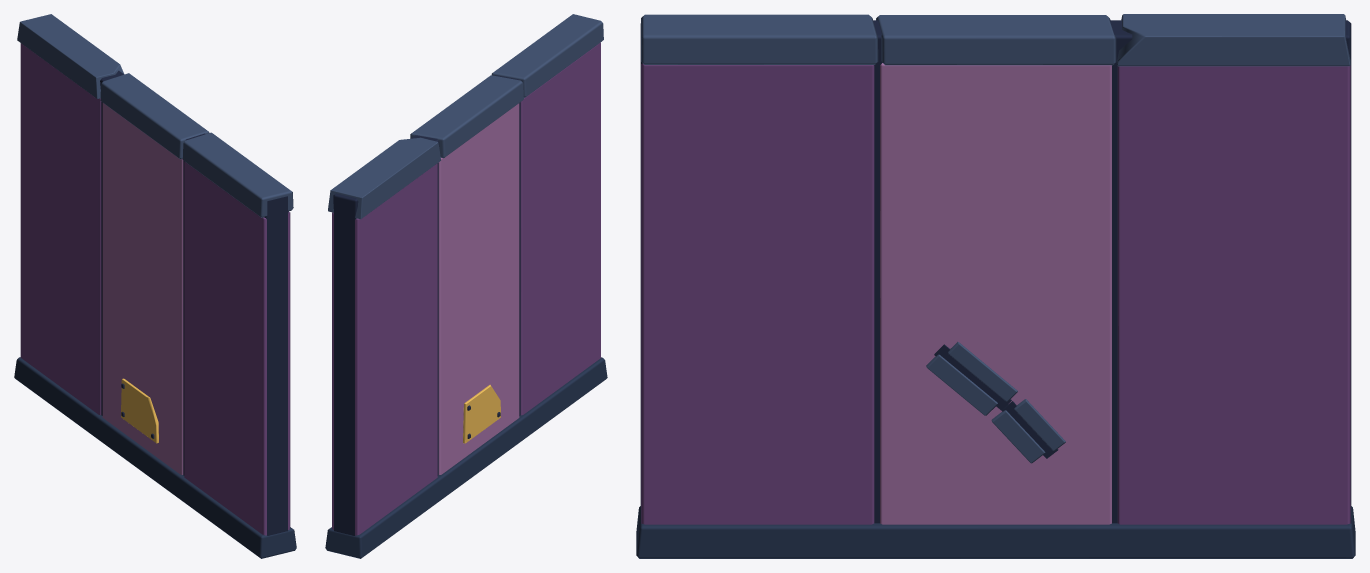
The model's file is wall_violet_34_420_520.glb.
3 renders of one model, left to right at view 1: azimuth 30°, elevation 25°; view 2: azimuth 150°, elevation 25°; view 3: azimuth 270°, elevation 25°, orthographic. The views are drawn at different scales.
Parts seen in each view (by area): view 1: wall_violet_34_420_520; view 2: wall_violet_34_420_520; view 3: wall_violet_34_420_520.
Boxes of the visible parts, box(x1,y1,x2,y2) form: wall_violet_34_420_520: box(14, 14, 296, 558); wall_violet_34_420_520: box(325, 14, 607, 558); wall_violet_34_420_520: box(636, 14, 1355, 558).
Bounding box in the file's own units: 0.4582 × 4.2 × 5.24.
